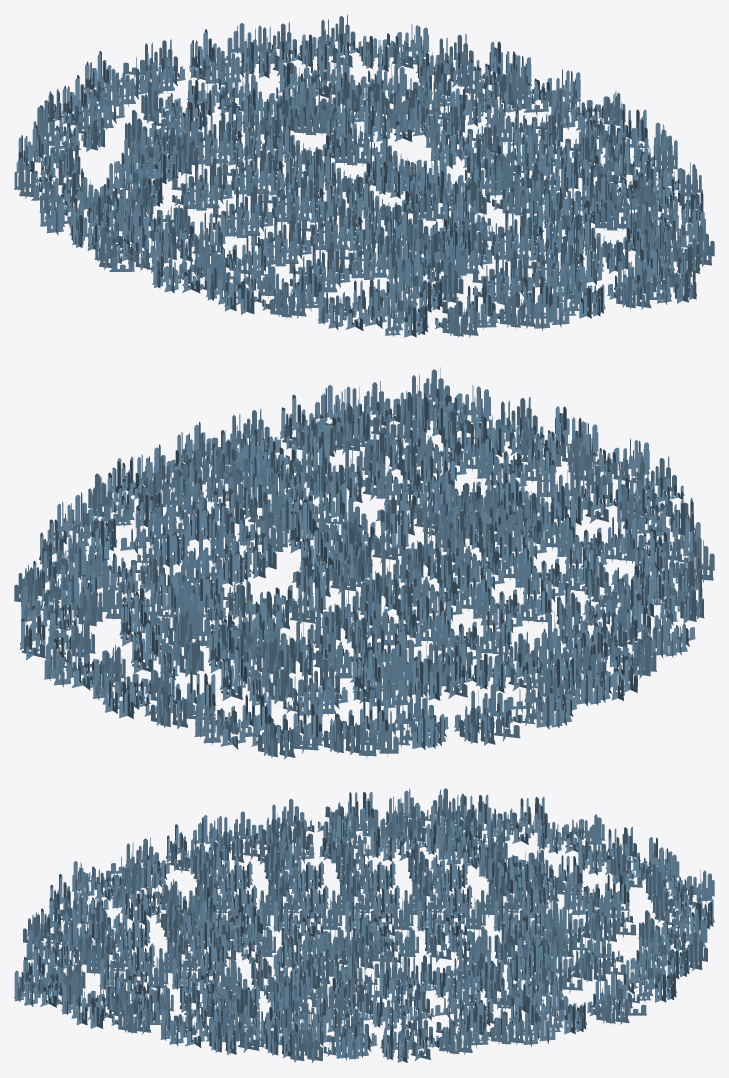
The model's file is grass_cluster.glb.
3 views of the same model, one above another, from view 1: azimuth 30°, elevation 25°; view 2: azimuth 150°, elevation 25°; view 3: azimuth 270°, elevation 25° (orthographic). The views are drawn at different scales.
Parts seen in each view (by area): view 1: Grass_1.001; view 2: Grass_1.001; view 3: Grass_1.001.
Part boxes in pixels (left/top/right/bottom): Grass_1.001: left=14, top=14, right=714, bottom=337; Grass_1.001: left=14, top=367, right=714, bottom=759; Grass_1.001: left=14, top=788, right=714, bottom=1062.
Bounding box in the file's own units: 40.47 × 2.28 × 47.65.
